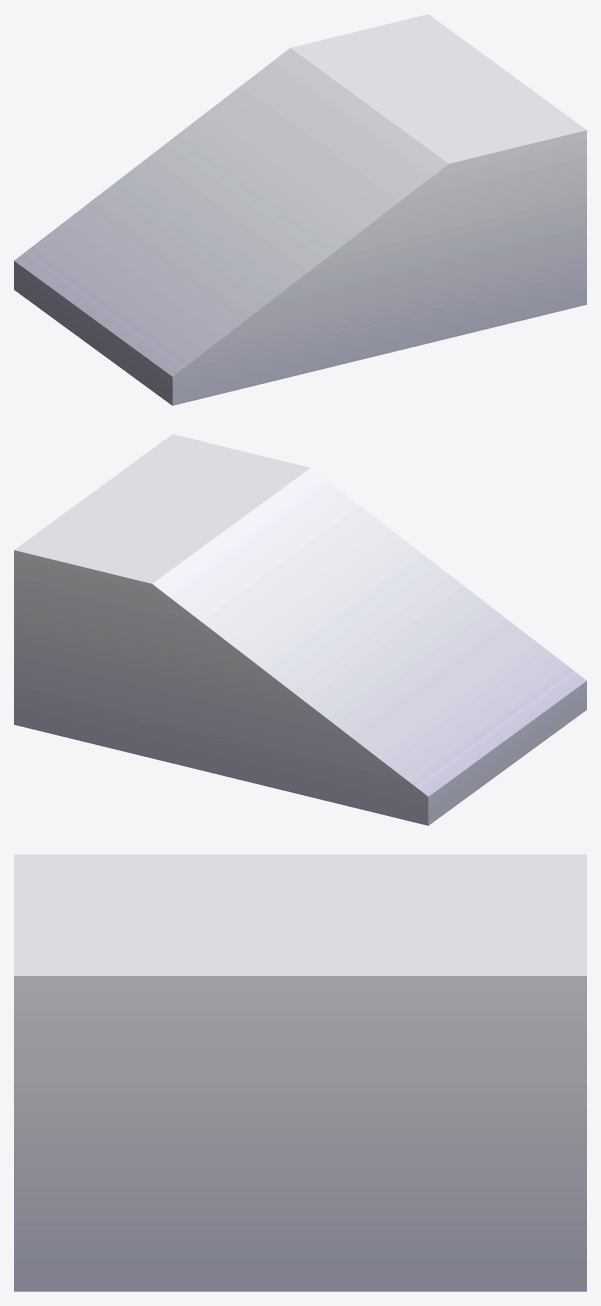
The model's file is none-lq-brick-slope-3x2.glb.
The picture shows the model from 3 angles, top to bottom: view 1: azimuth 30°, elevation 25°; view 2: azimuth 150°, elevation 25°; view 3: azimuth 270°, elevation 25°; orthographic projection. The views are drawn at different scales.
Parts seen in each view (by area): view 1: none-lq-brick-slope-3x2; view 2: none-lq-brick-slope-3x2; view 3: none-lq-brick-slope-3x2.
Part boxes in pixels (x1,y1,x2,y2): none-lq-brick-slope-3x2: (14, 14, 586, 405); none-lq-brick-slope-3x2: (14, 434, 586, 825); none-lq-brick-slope-3x2: (14, 854, 586, 1291).
Size of the model in its own units: 0.2385 by 0.096 by 0.158.
Materials: 1 (1 with a texture image).
